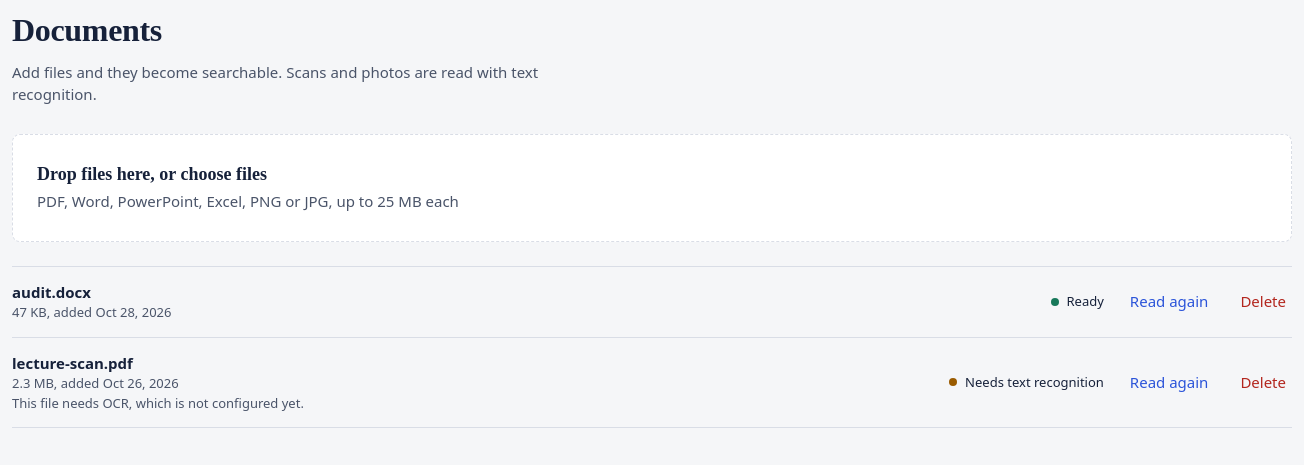
Scenario: Documents › shows why a delete failed and leaves the document in place
The width and height of the screenshot is (1304, 465).
Click the button with aria-label "Delete audit.docx": (1263,302) x1=1234 y1=286 x2=1292 y2=317
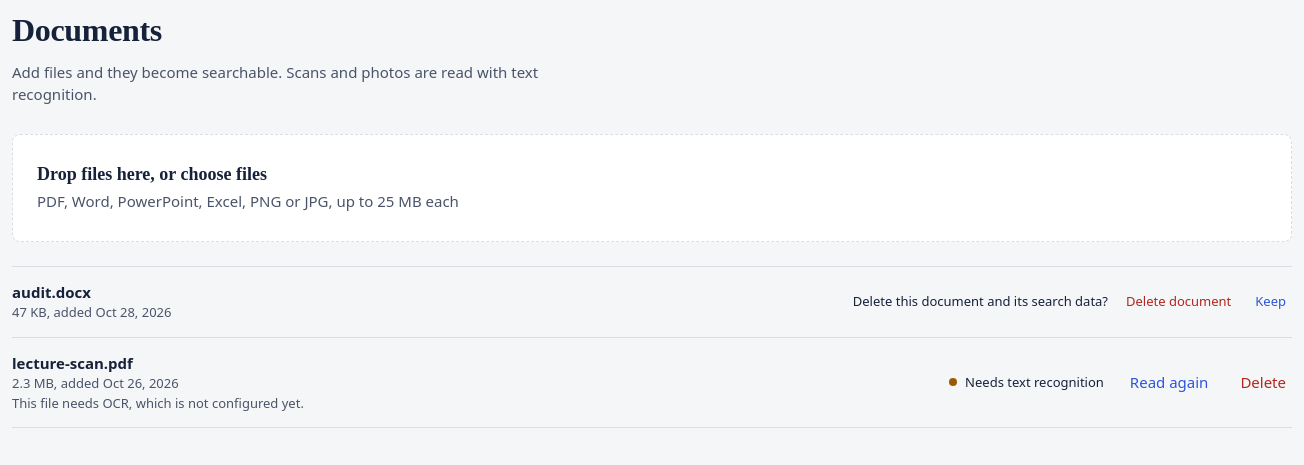
Click the button "Delete document": (1179,302) x1=1120 y1=288 x2=1237 y2=315
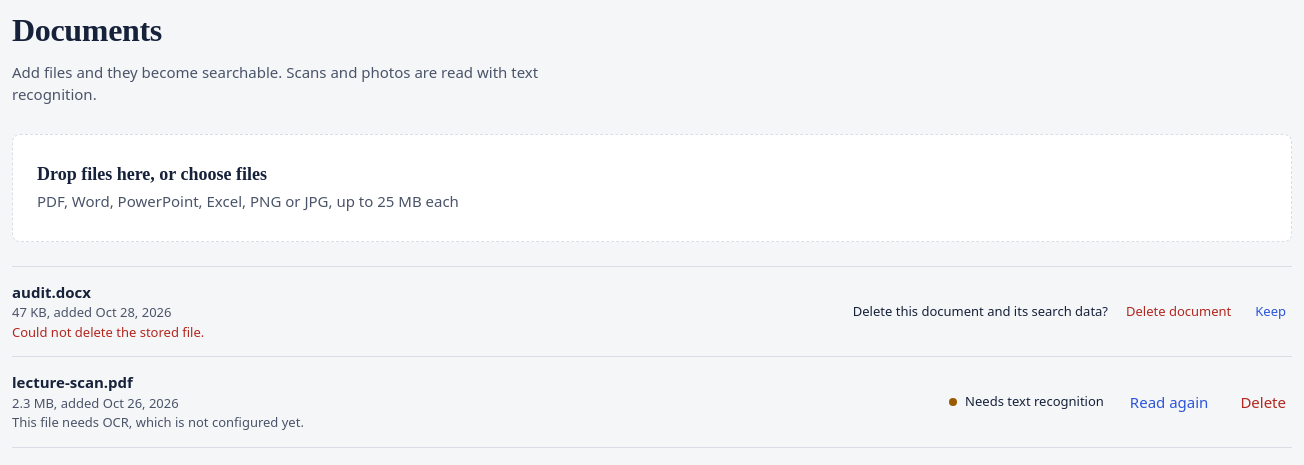
Expected: the text "audit.docx" is shown, x1=12 y1=282 x2=91 y2=302
Result: the message reads "Could not delete the stored file." at x1=12 y1=323 x2=204 y2=341
